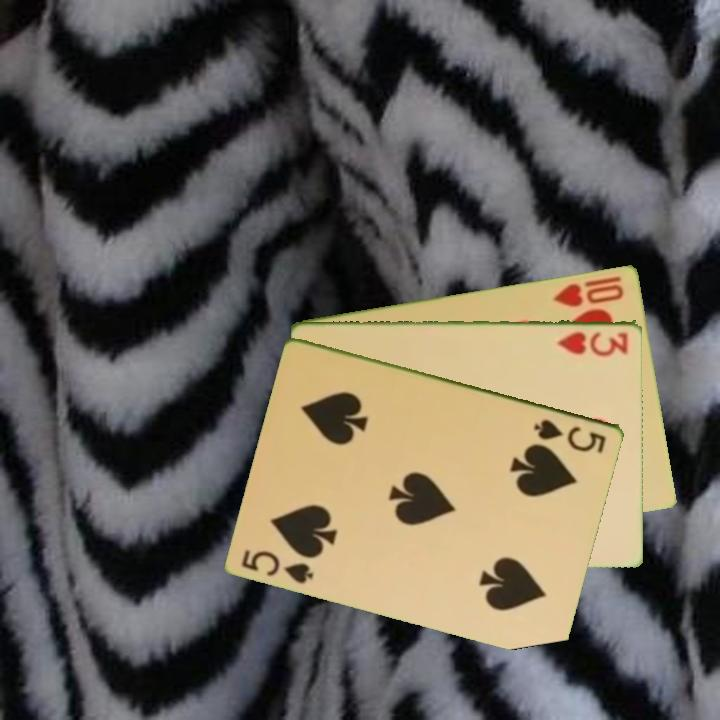10h: (549, 279, 627, 310)
3h: (554, 328, 631, 358)
5s: (530, 415, 610, 456), (238, 546, 317, 587)
